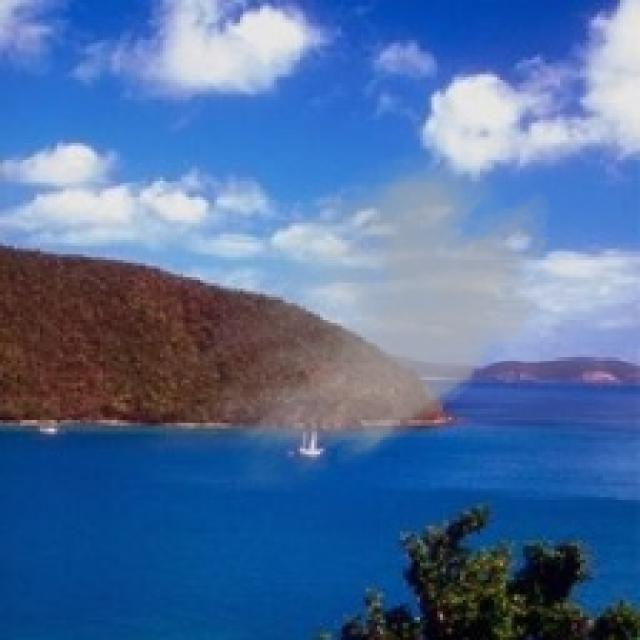smoke: (157, 134, 566, 497)
